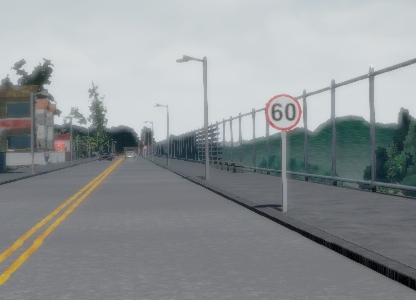Speed_60: (264, 93, 302, 134)
